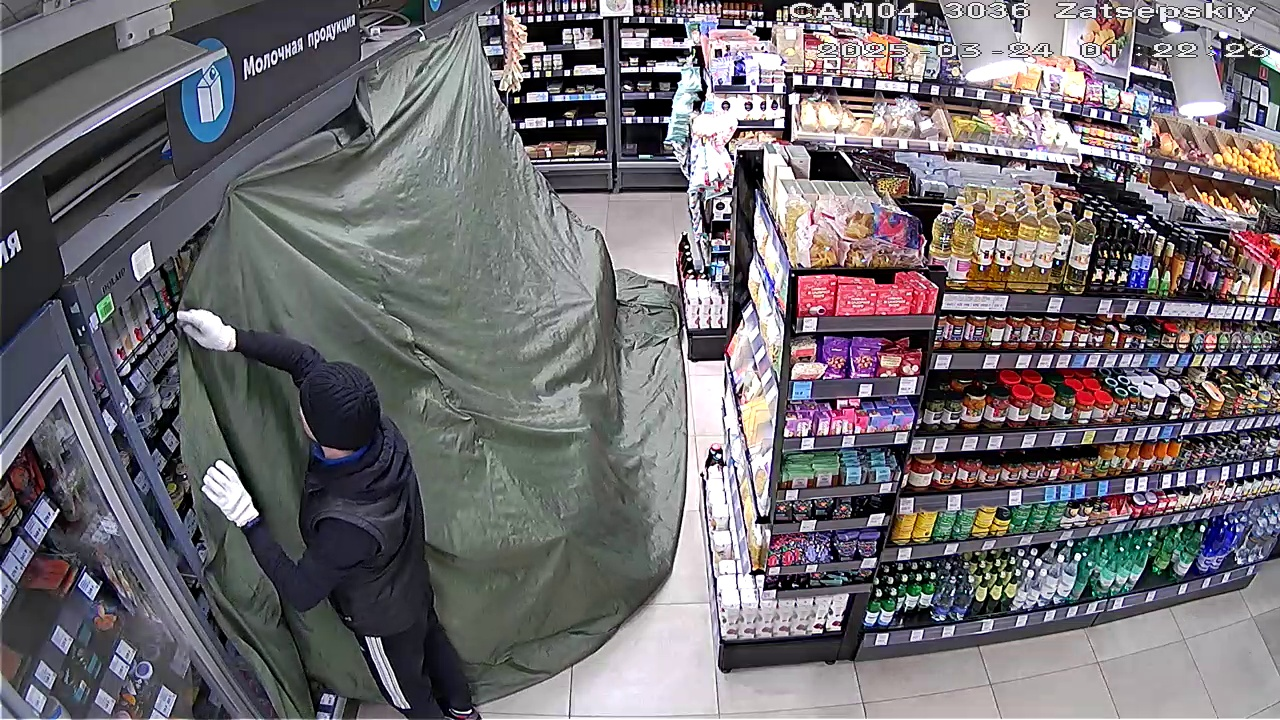Human: (152, 297, 482, 719)
dome: (170, 29, 685, 682)
